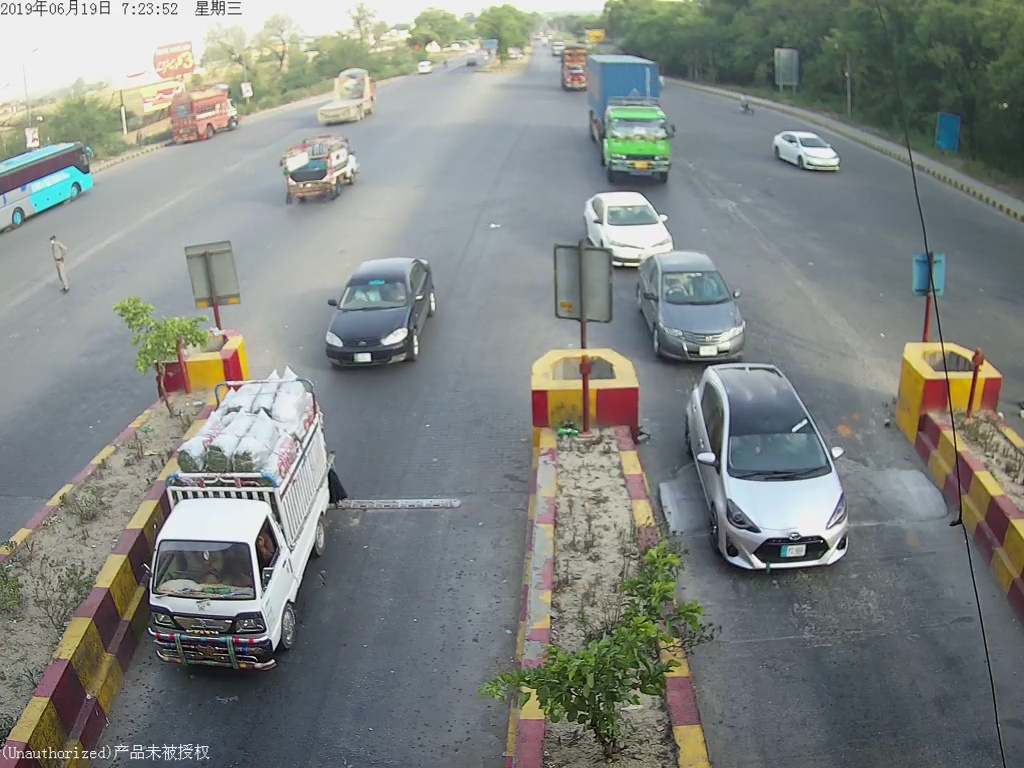Cat-1: (146, 379, 346, 672), (683, 357, 869, 590), (634, 257, 752, 359), (322, 257, 429, 369), (583, 197, 681, 247)
